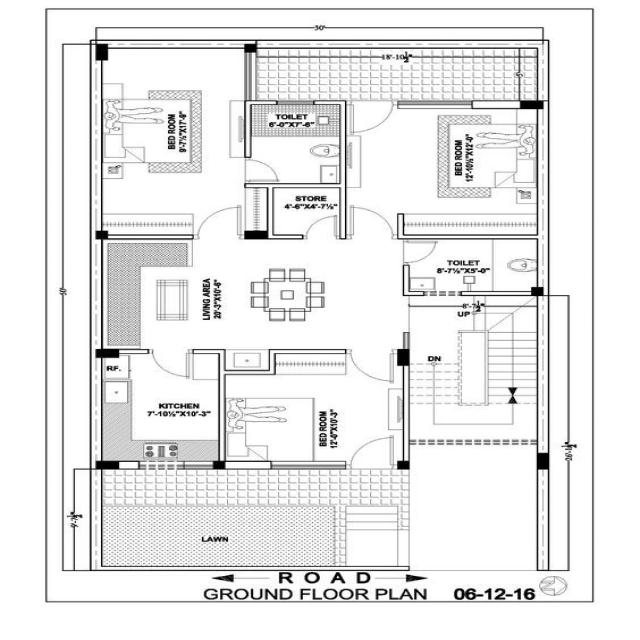column: (84, 41, 116, 65), (516, 97, 556, 114), (90, 456, 122, 473), (531, 450, 553, 474), (394, 346, 414, 370), (89, 346, 123, 360), (236, 41, 260, 58), (391, 458, 415, 475), (528, 284, 547, 302), (91, 228, 113, 242), (210, 458, 230, 473)
